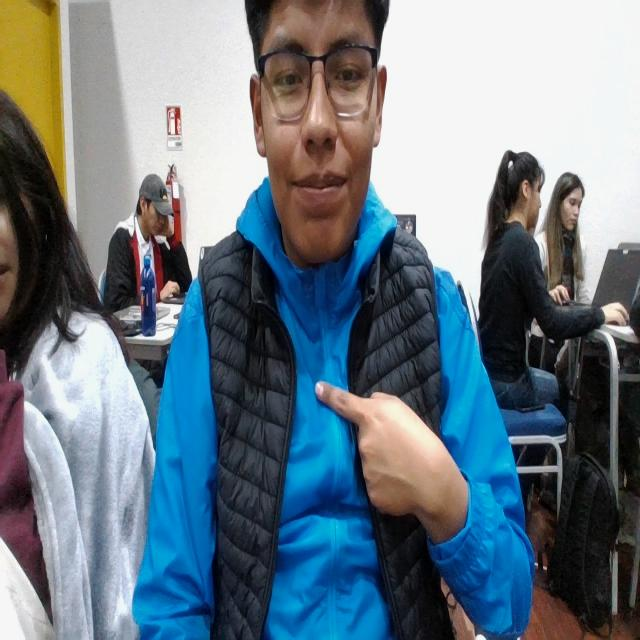i: (310, 361, 458, 549)
